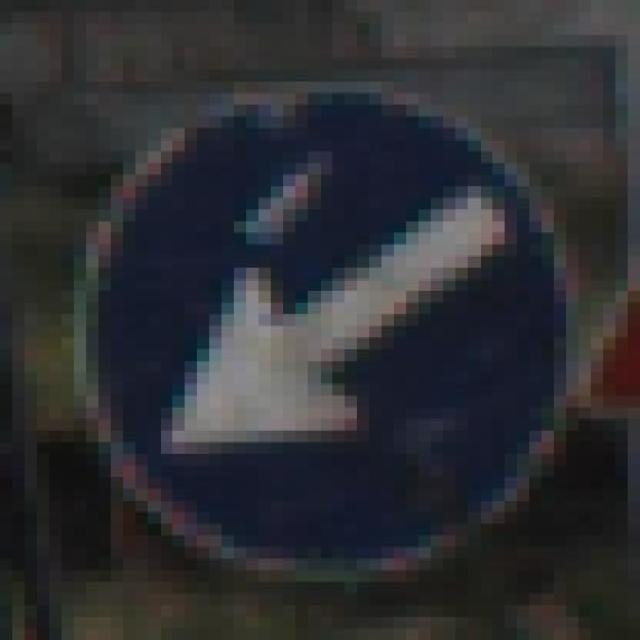Keep-Left: (37, 47, 603, 605)
